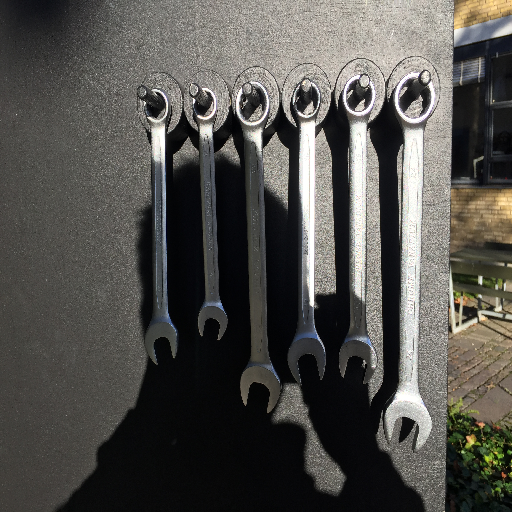bottom: (382, 390, 434, 455), (238, 361, 283, 416), (337, 336, 378, 387), (287, 334, 327, 385), (143, 317, 180, 366), (197, 300, 229, 342)
top: (391, 72, 437, 129), (234, 81, 271, 130), (341, 73, 376, 121), (290, 78, 323, 124), (190, 87, 221, 126), (141, 88, 173, 125)
